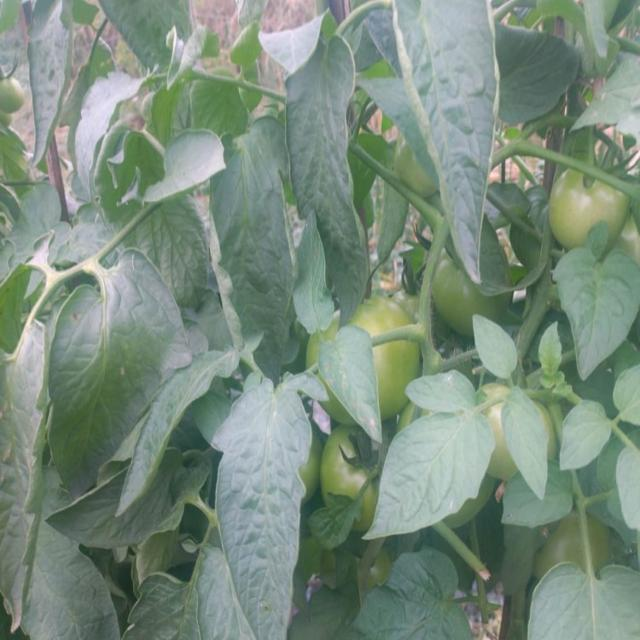tomato: (557, 169, 622, 245), (431, 255, 482, 327), (320, 427, 367, 498), (375, 340, 418, 408), (485, 402, 518, 484), (392, 147, 440, 200), (546, 523, 591, 572), (364, 292, 414, 335), (1, 72, 28, 119)
